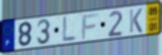2: (107, 9, 124, 39)
3: (36, 18, 52, 46)
8: (18, 20, 33, 47)
F: (81, 12, 100, 42)
K: (129, 8, 144, 34)
L: (62, 16, 77, 43)
